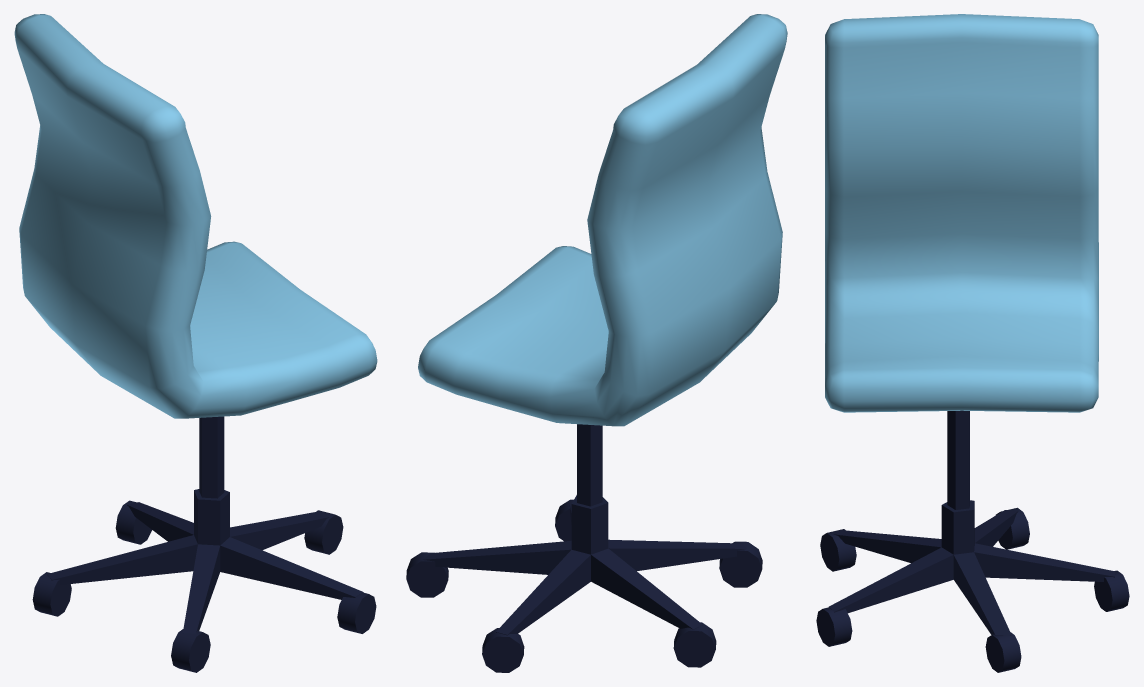
The model's file is sandalye_1.fbx.
3 views of the same model, side by side, from view 1: azimuth 30°, elevation 25°; view 2: azimuth 150°, elevation 25°; view 3: azimuth 270°, elevation 25° (orthographic). The views are drawn at different scales.
Parts seen in each view (by area): view 1: sandalye_1; view 2: sandalye_1; view 3: sandalye_1.
Boxes of the visible parts, x1,y1,x2,y2 form: sandalye_1: (14,14,377,672); sandalye_1: (406,14,787,672); sandalye_1: (816,14,1129,672).
Bounding box in the file's own units: 78.21 × 138 × 73.1.
